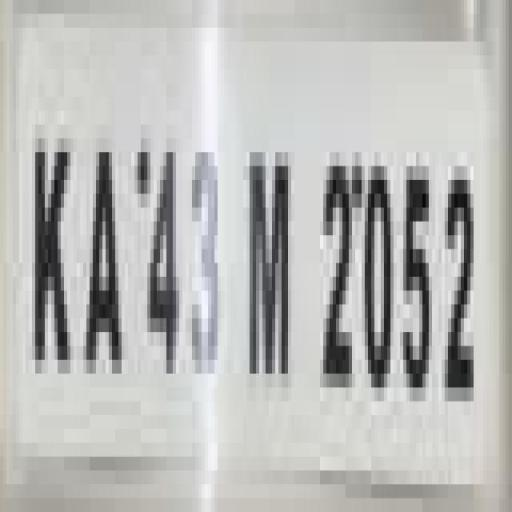number plate: (0, 13, 489, 512)
